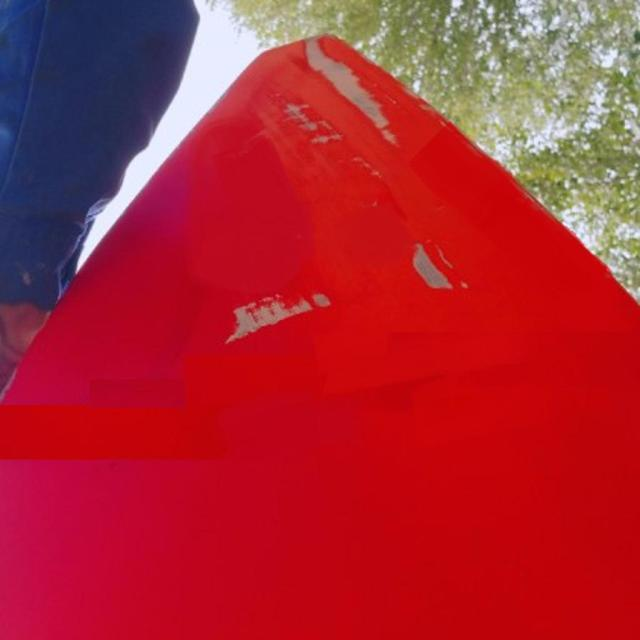surface_peeling: (291, 36, 401, 148), (221, 288, 335, 350), (409, 238, 464, 293)
